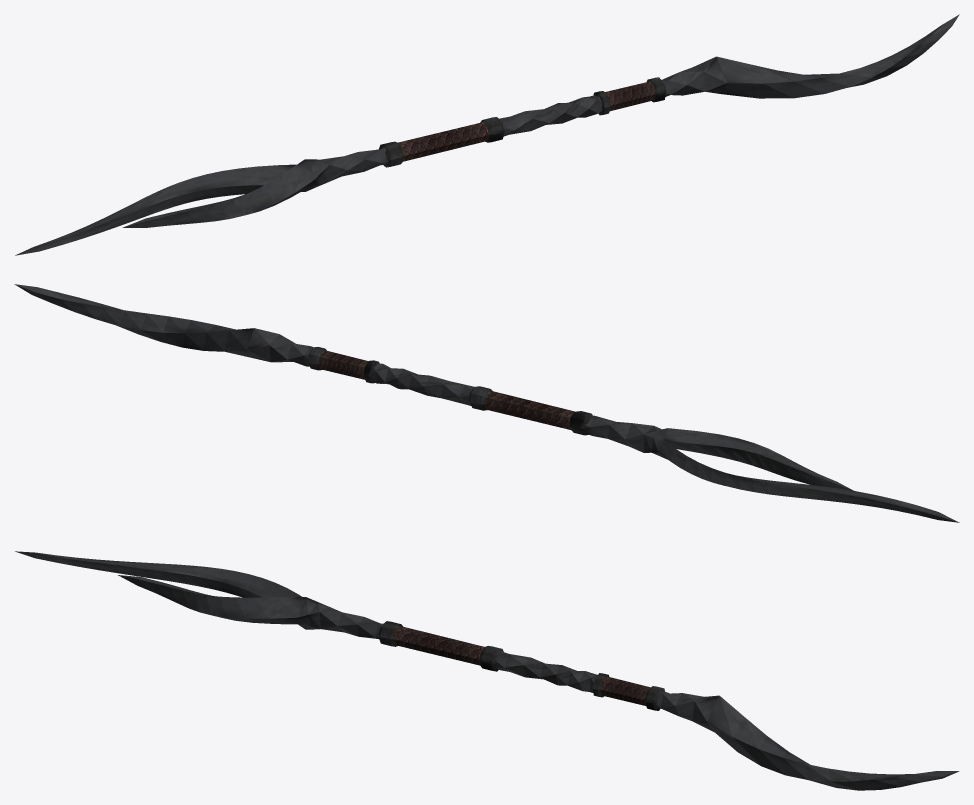
The model's file is G3_WEAPON_STAFF_BLADESTAFF_01.glb.
3 renders of one model, top to bottom at view 1: azimuth 30°, elevation 25°; view 2: azimuth 150°, elevation 25°; view 3: azimuth 330°, elevation 25°, orthographic.
Visible parts, largest first — view 1: G3_WEAPON_STAFF_BLADESTAFF_01; view 2: G3_WEAPON_STAFF_BLADESTAFF_01; view 3: G3_WEAPON_STAFF_BLADESTAFF_01.
Part boxes in pixels (x1=…): G3_WEAPON_STAFF_BLADESTAFF_01: x1=15, y1=14, x2=959, y2=255; G3_WEAPON_STAFF_BLADESTAFF_01: x1=14, y1=284, x2=959, y2=522; G3_WEAPON_STAFF_BLADESTAFF_01: x1=15, y1=551, x2=959, y2=790.
Bounding box in the file's own units: 2.09 × 0.1048 × 0.1667.
1 material, 1 textured.
